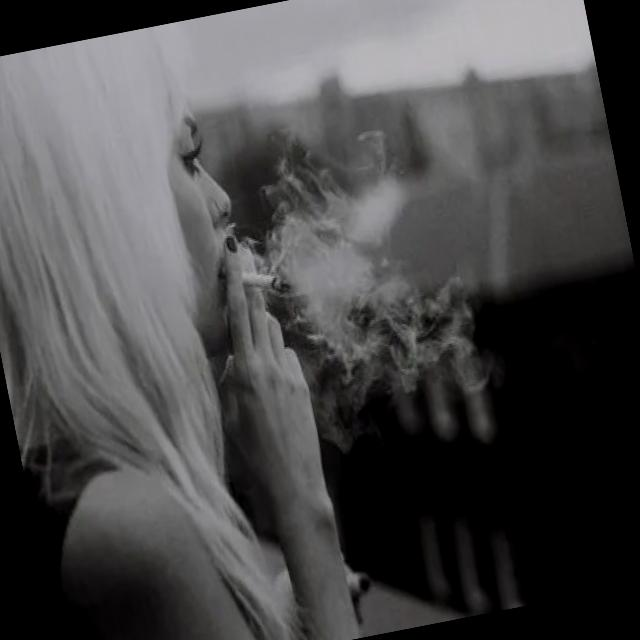smoke: (232, 254, 288, 304)
